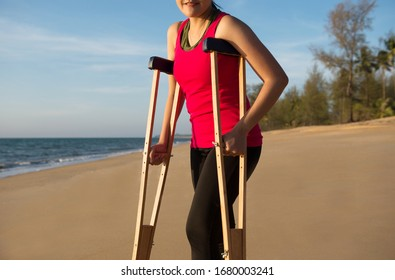crutches: (132, 2, 289, 260)
